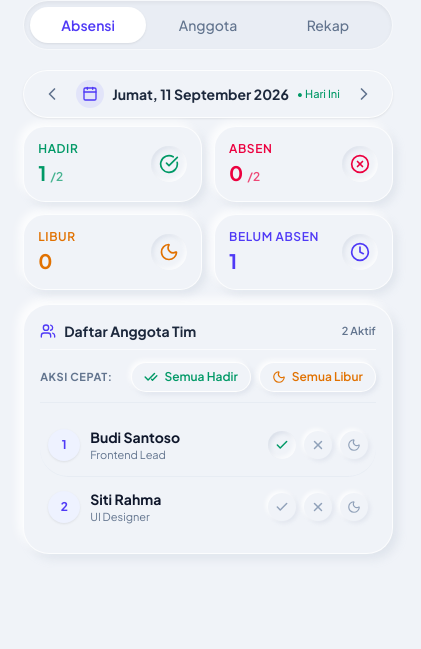
Test case: AttendancePage Soft Neumorphism Layout & No Double Card › toggles member attendance status with concave styling when active
Click Absent on Member 1
Click the button named "Absen" next to "Budi Santoso".
click(318, 445)  # box x1=304 y1=431 x2=332 y2=459
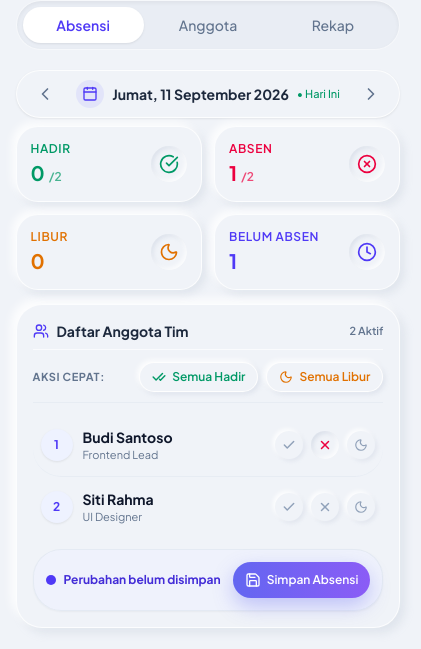
Result: the text "Perubahan belum disimpan" is shown at x1=64 y1=572 x2=221 y2=588
